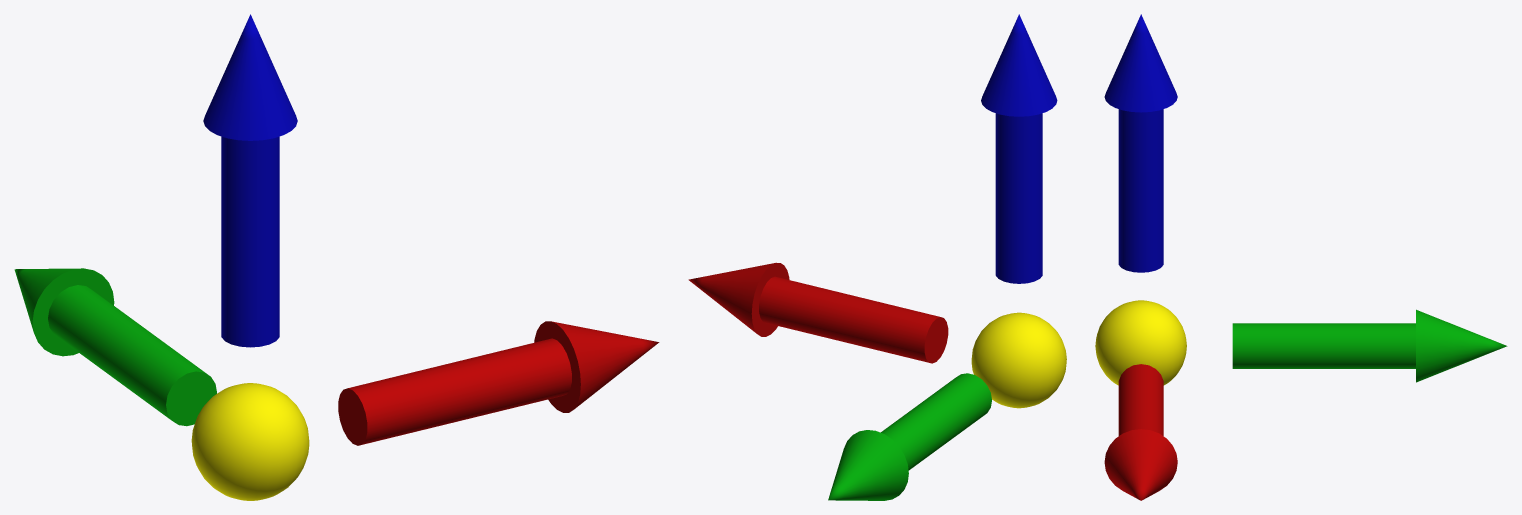
Rendered from AxisArrows.FBX.
3 views of the same model, side by side, from view 1: azimuth 30°, elevation 25°; view 2: azimuth 150°, elevation 25°; view 3: azimuth 270°, elevation 25° (orthographic). The views are drawn at different scales.
Visible parts, largest first — view 1: Arrow_Z, Arrow_X, Arrow_Y, Sphere001; view 2: Arrow_Z, Arrow_X, Arrow_Y, Sphere001; view 3: Arrow_Y, Arrow_Z, Arrow_X, Sphere001.
Part boxes in pixels (x1,y1,x2,y2): Arrow_Z: (203, 14, 297, 347); Arrow_X: (338, 321, 659, 445); Arrow_Y: (14, 268, 216, 426); Sphere001: (191, 383, 309, 500); Arrow_Z: (981, 14, 1057, 283); Arrow_X: (688, 262, 948, 363); Arrow_Y: (828, 373, 991, 500); Sphere001: (971, 312, 1066, 408); Arrow_Y: (1232, 309, 1507, 382); Arrow_Z: (1104, 14, 1177, 272); Arrow_X: (1104, 364, 1177, 500); Sphere001: (1095, 300, 1186, 385).
Bounding box in the file's own units: 45 × 45 × 45.
